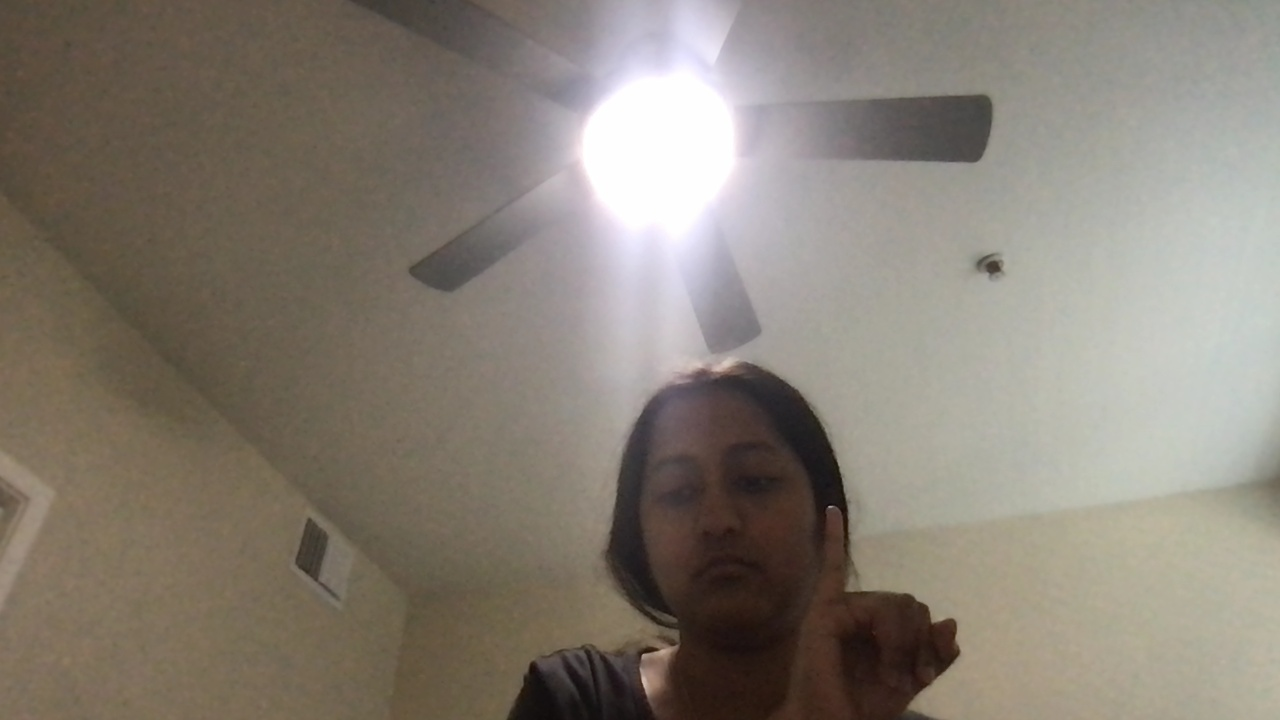i: (809, 503, 976, 708)
